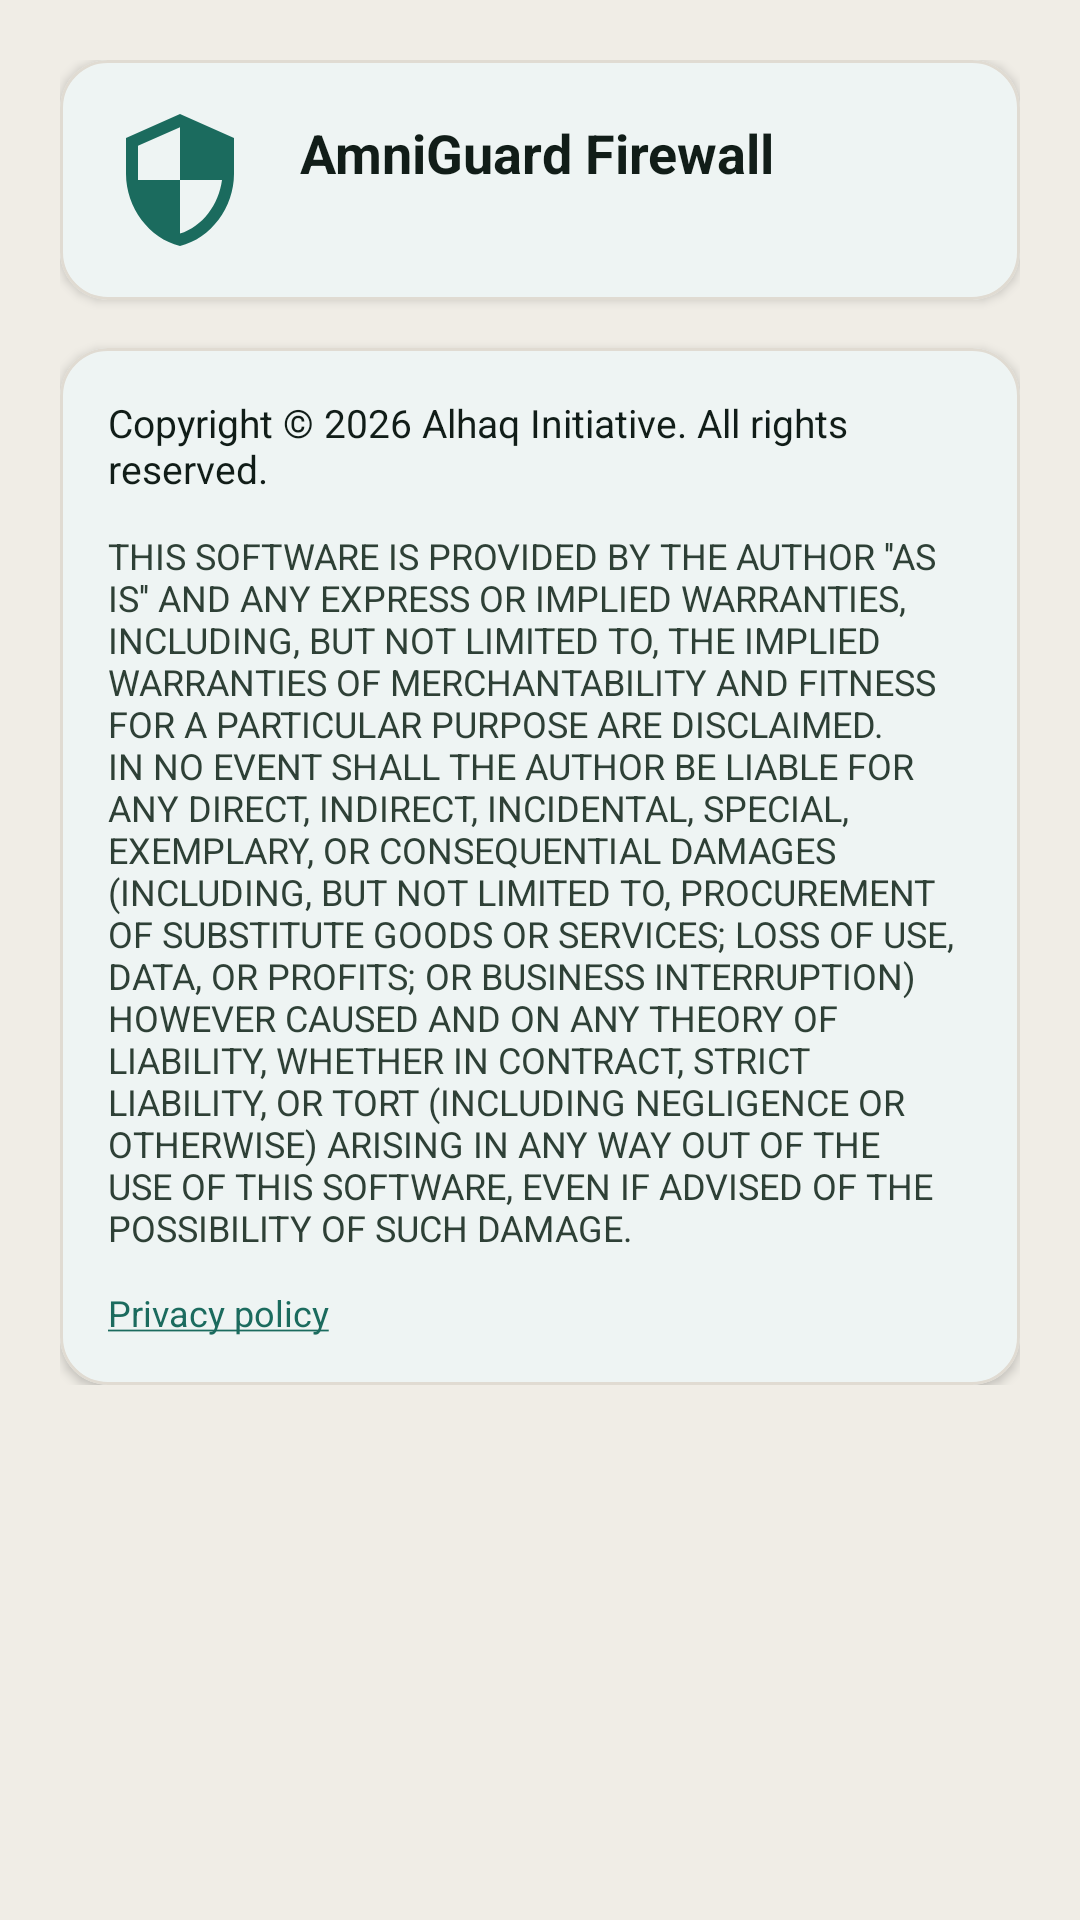

Screen size 1080 x 1920. Icon name, then its center in pixels as (x=x, y=y):
shield: (x=180, y=180)
